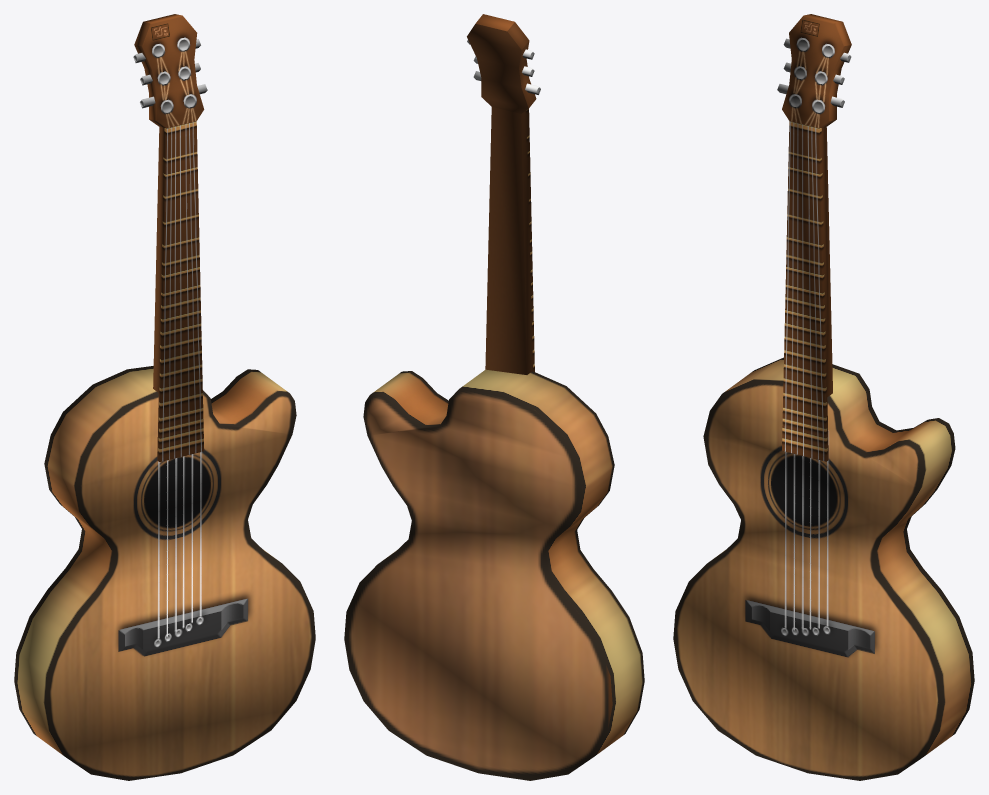
The model's file is Weapon_Jita_fbx.FBX.
3 views of the same model, side by side, from view 1: azimuth 30°, elevation 25°; view 2: azimuth 150°, elevation 25°; view 3: azimuth 330°, elevation 25° (orthographic).
Visible parts, largest first — view 1: Jita; view 2: Jita; view 3: Jita.
Part boxes in pixels (x1=…): Jita: x1=14, y1=14, x2=315, y2=780; Jita: x1=344, y1=14, x2=644, y2=780; Jita: x1=673, y1=14, x2=974, y2=780.
Bounding box in the file's own units: 0.3874 × 1.02 × 0.0856.
